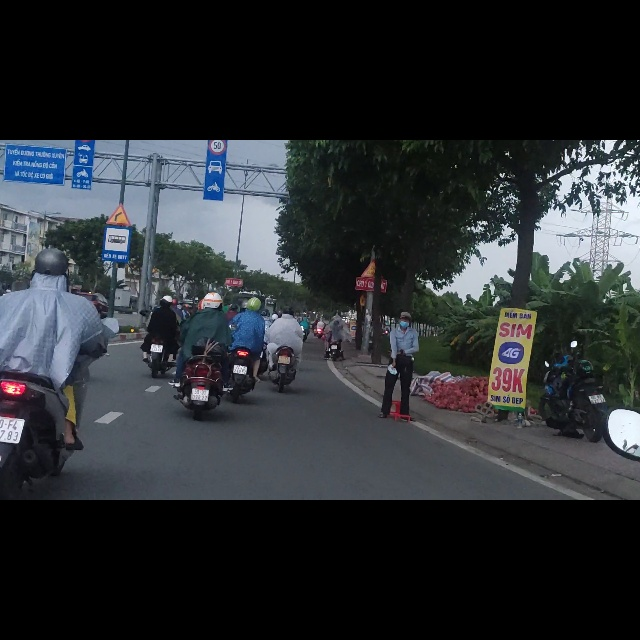bien_chi_dan: (103, 153, 130, 217), (106, 110, 131, 153), (208, 1, 226, 26)
